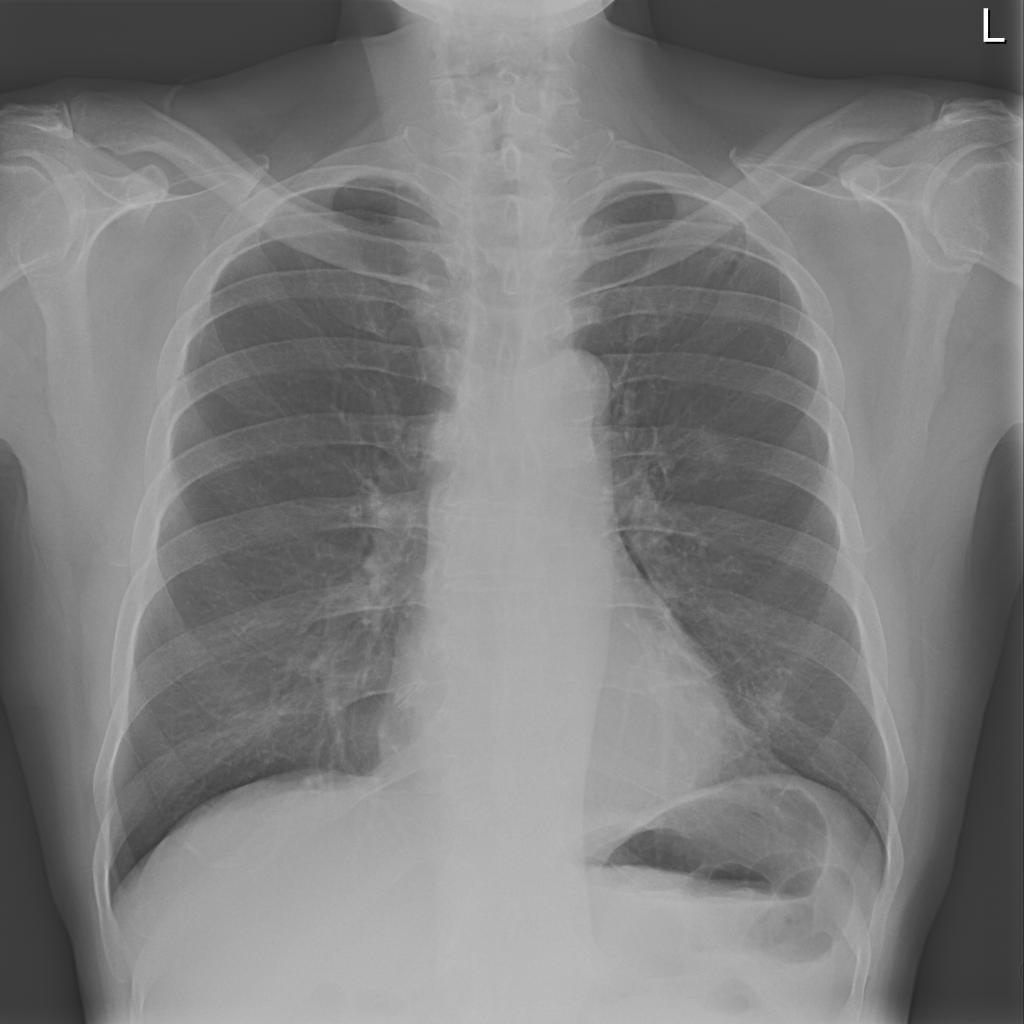Nodule: (212, 129, 222, 151)
